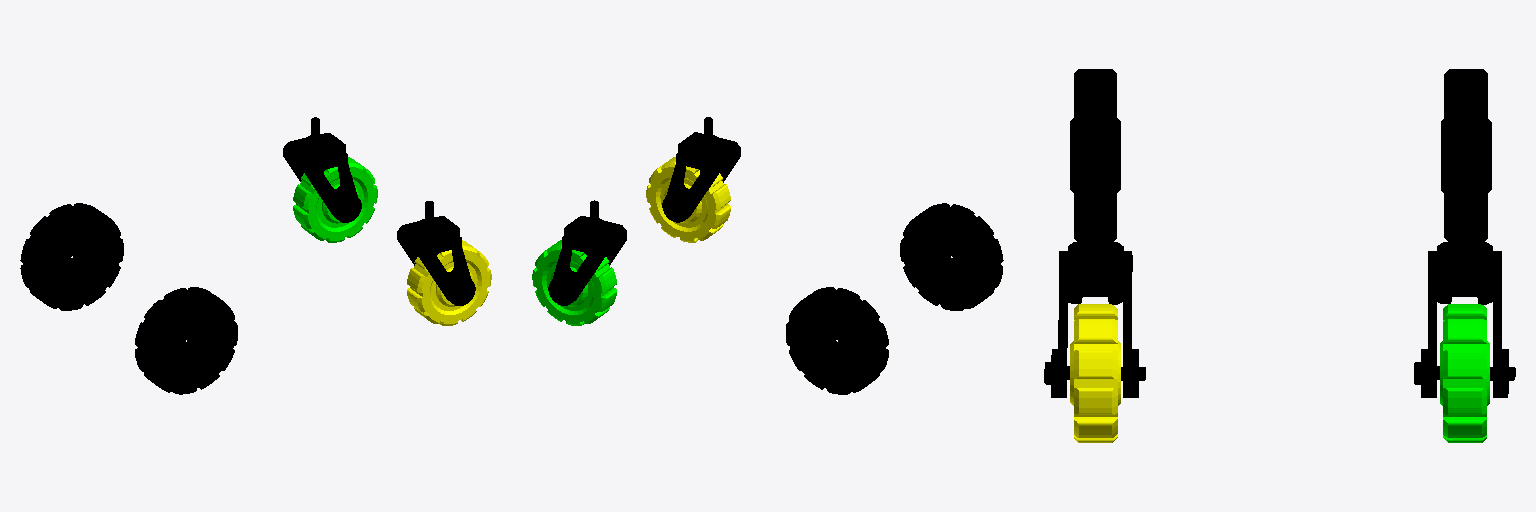
The robot description file, URDF, robot "AGB_Robot":
<?xml version="1.0" ?>
<robot name="AGB_Robot">

  <!-- ////////////////////////////////////////////////////////////-->
  <!-- chassis-->
  <link name="body">
    <visual>
      <origin rpy="0  0  0" xyz="0 0 0"/>
      <geometry>
        <mesh filename="package://agb_2bot_pk/meshes/Body.dae"/>
      </geometry>
    </visual>
  </link>

  <!-- ///////////////////      Wheels      ///////////////////////   -->
  <link name="right_front_wheel">
    <visual>
      <origin rpy="0  0  0" xyz="0 0 0"/>
      <geometry>
        <mesh filename="package://agb_2bot_pk/meshes/Back.dae"/>
      </geometry>
      <material name="Black">
        <color rgba="0 0 0 1"/>
      </material>
    </visual>
  </link>

  <joint name="right_front_wheel_joint" type="continuous">
    <parent link="body"/>
    <child link="right_front_wheel"/>
    <origin rpy="0 0 0" xyz="-1  -1.03  0.5"/>
    <axis xyz="0 1 0"/>
    <limit effort="100" velocity="100"/>
    <dynamics damping="0.0" friction="0.0"/>
  </joint>
  
  <link name="left_front_wheel">
    <visual>
      <origin rpy="0  0  0" xyz="0 0 0"/>
      <geometry>
        <mesh filename="package://agb_2bot_pk/meshes/Back.dae"/>
      </geometry>
      <material name="Black">
        <color rgba="0 0 0 1"/>
      </material>
    </visual>
  </link>

  <joint name="left_front_wheel_joint" type="continuous">
    <parent link="body"/>
    <child link="left_front_wheel"/>
    <origin rpy="0 0 0" xyz="-1  1.088  0.5"/>
    <axis xyz="0 1 0"/>
    <limit effort="100" velocity="100"/>
    <dynamics damping="0.0" friction="0.0"/>
  </joint>

  <link name="left_frame_wheel">
    <visual>
      <origin rpy="0  0  0" xyz="0 0 0"/>
      <geometry>
        <mesh filename="package://agb_2bot_pk/meshes/Frame.dae"/>
      </geometry>
      <material name="Black">
        <color rgba="0 0 0 1"/>
      </material>
    </visual>
  </link>

  <joint name="left_frame_wheel_joint" type="continuous">
    <parent link="body"/>
    <child link="left_frame_wheel"/>
    <origin rpy="0 0 0" xyz="1.6 -1.03  1.21"/>
    <axis xyz="0 0 1"/>
    <limit effort="100" velocity="100"/>
    <dynamics damping="0.0" friction="0.0"/>
  </joint>
  
  <link name="left_back_wheel">
    <visual>
      <origin rpy="0  0  0" xyz="0 0 0"/>
      <geometry>
        <mesh filename="package://agb_2bot_pk/meshes/wheel.dae"/>
      </geometry>
      <material name="Black">
        <color rgba="1 1 0 1"/>
      </material>
    </visual>
  </link>

  <joint name="left_back_wheel_joint" type="continuous">
    <parent link="left_frame_wheel"/>
    <child link="left_back_wheel"/>
    <origin rpy="0 0 0" xyz="0.213 0.00083  -0.7695"/>
    <axis xyz="0 1 0"/>
    <limit effort="100" velocity="100"/>
    <dynamics damping="0.0" friction="0.0"/>
  </joint>
  
  <link name="right_frame_wheel">
    <visual>
      <origin rpy="0  0  0" xyz="0 0 0"/>
      <geometry>
        <mesh filename="package://agb_2bot_pk/meshes/Frame.dae"/>
      </geometry>
      <material name="Black">
        <color rgba="0 0 0 1"/>
      </material>
    </visual>
  </link>

  <joint name="right_frame_wheel_joint" type="continuous">
    <parent link="body"/>
    <child link="right_frame_wheel"/>
    <origin rpy="0 0 0" xyz="1.6 1.08  1.21"/>
    <axis xyz="0 0 1"/>
    <limit effort="100" velocity="100"/>
    <dynamics damping="0.0" friction="0.0"/>
  </joint>


  <link name="right_back_wheel">
    <visual>
      <origin rpy="0  0  0" xyz="0 0 0"/>
      <geometry>
        <mesh filename="package://agb_bot_pk/meshes/wheel.dae"/>
      </geometry>
      <material name="Black">
        <color rgba="0 1 0 1"/>
      </material>
    </visual>
  </link>

  <joint name="right_back_wheel_joint" type="continuous">
    <parent link="right_frame_wheel"/>
    <child link="right_back_wheel"/>
    <origin rpy="0 0 0" xyz="0.213 0.00083  -0.7695"/>
    <axis xyz="0 1 0"/>
    <limit effort="100" velocity="100"/>
    <dynamics damping="0.0" friction="0.0"/>
  </joint>
  
  
 <!-- Transmission of joint -->
  <transmission name="trans1">
    <type>transmission_interface/SimpleTransmission</type>
    <joint name="right_back_wheel_joint">
      <hardwareInterface>hardware_interface/EffortJointInterface</hardwareInterface>
    </joint>
    <actuator name="motor1">
      <hardwareInterface>hardware_interface/EffortJointInterface</hardwareInterface>
      <mechanicalReduction>1</mechanicalReduction>
    </actuator>
  </transmission>
  <!-- Transmission of joint -->
  <transmission name="trans2">
    <type>transmission_interface/SimpleTransmission</type>
    <joint name="left_back_wheel_joint">
      <hardwareInterface>hardware_interface/EffortJointInterface</hardwareInterface>
    </joint>
    <actuator name="motor2">
      <hardwareInterface>hardware_interface/EffortJointInterface</hardwareInterface>
      <mechanicalReduction>1</mechanicalReduction>
    </actuator>
  </transmission>
  
  <!-- Transmission of joint -->
  <transmission name="trans3">
    <type>transmission_interface/SimpleTransmission</type>
    <joint name="left_frame_wheel_joint">
      <hardwareInterface>hardware_interface/EffortJointInterface</hardwareInterface>
    </joint>
    <actuator name="motor3">
      <hardwareInterface>hardware_interface/EffortJointInterface</hardwareInterface>
      <mechanicalReduction>1</mechanicalReduction>
    </actuator>
  </transmission>
  <!-- Transmission of joint -->
  <transmission name="trans4">
    <type>transmission_interface/SimpleTransmission</type>
    <joint name="right_frame_wheel_joint">
      <hardwareInterface>hardware_interface/EffortJointInterface</hardwareInterface>
    </joint>
    <actuator name="motor4">
      <hardwareInterface>hardware_interface/EffortJointInterface</hardwareInterface>
      <mechanicalReduction>1</mechanicalReduction>
    </actuator>
  </transmission>
  
  <!-- Transmission of joint -->
  <transmission name="trans5">
    <type>transmission_interface/SimpleTransmission</type>
    <joint name="left_front_wheel_joint">
      <hardwareInterface>hardware_interface/EffortJointInterface</hardwareInterface>
    </joint>
    <actuator name="motor5">
      <hardwareInterface>hardware_interface/EffortJointInterface</hardwareInterface>
      <mechanicalReduction>1</mechanicalReduction>
    </actuator>
  </transmission>
  <!-- Transmission of joint -->
  <transmission name="trans6">
    <type>transmission_interface/SimpleTransmission</type>
    <joint name="right_front_wheel_joint">
      <hardwareInterface>hardware_interface/EffortJointInterface</hardwareInterface>
    </joint>
    <actuator name="motor6">
      <hardwareInterface>hardware_interface/EffortJointInterface</hardwareInterface>
      <mechanicalReduction>1</mechanicalReduction>
    </actuator>
  </transmission>
  
    

  
</robot>

--- Render facts (derived) ---
Views: 3 orthographic renders of the robot side by side, from view 1: azimuth 30°, elevation 25°; view 2: azimuth 150°, elevation 25°; view 3: azimuth 270°, elevation 25°.
Robot: AGB_Robot — 7 links, 6 joints (6 continuous); root link body; default pose: every joint at zero.
Visible links, largest first — view 1: left_front_wheel, right_front_wheel, right_frame_wheel, left_frame_wheel, left_back_wheel, right_back_wheel; view 2: right_front_wheel, left_front_wheel, left_frame_wheel, right_frame_wheel, right_back_wheel, left_back_wheel; view 3: left_front_wheel, right_front_wheel, right_frame_wheel, left_frame_wheel, left_back_wheel, right_back_wheel.
Boxes of the visible links, x1=… form: left_front_wheel: x1=20, y1=203, x2=123, y2=310; right_front_wheel: x1=135, y1=287, x2=237, y2=394; right_frame_wheel: x1=283, y1=117, x2=361, y2=222; left_frame_wheel: x1=397, y1=201, x2=475, y2=305; left_back_wheel: x1=407, y1=240, x2=491, y2=325; right_back_wheel: x1=293, y1=157, x2=377, y2=242; right_front_wheel: x1=900, y1=203, x2=1003, y2=310; left_front_wheel: x1=786, y1=287, x2=888, y2=394; left_frame_wheel: x1=662, y1=117, x2=740, y2=222; right_frame_wheel: x1=548, y1=200, x2=626, y2=305; right_back_wheel: x1=532, y1=240, x2=616, y2=325; left_back_wheel: x1=646, y1=157, x2=730, y2=242; left_front_wheel: x1=1441, y1=69, x2=1491, y2=241; right_front_wheel: x1=1070, y1=69, x2=1120, y2=241; right_frame_wheel: x1=1414, y1=217, x2=1515, y2=397; left_frame_wheel: x1=1044, y1=218, x2=1145, y2=397; left_back_wheel: x1=1070, y1=304, x2=1120, y2=442; right_back_wheel: x1=1440, y1=304, x2=1489, y2=442.
Bounding box of the posed robot: 3.71 × 2.69 × 1.31 m (x, y, z).
6 mesh visuals loaded from 5 distinct referenced files (3 Collada DAE); not drawn: 1 (reference not matched to a file when rendering).